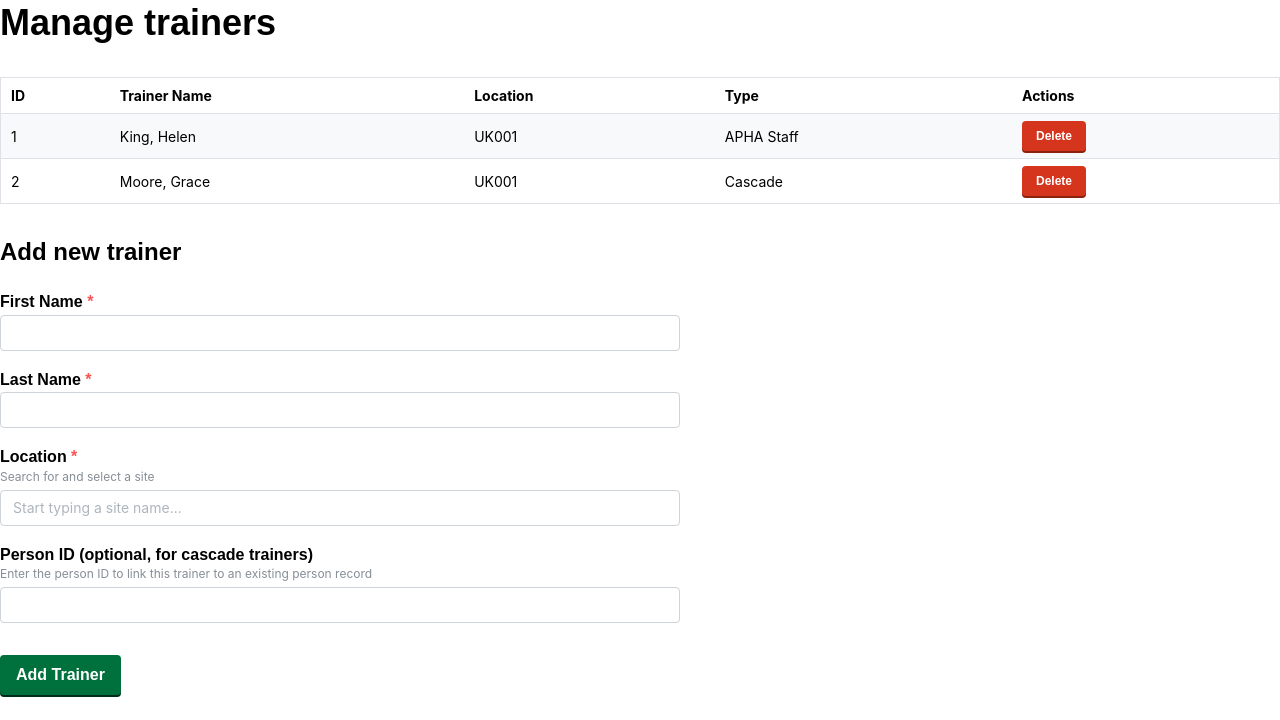
it: ManageTrainersPage › opens delete confirmation modal when delete is clicked
This screenshot has width=1280, height=720.
Click the button with test id "delete-trainer-1": (1054,136) [1022, 122, 1086, 152]
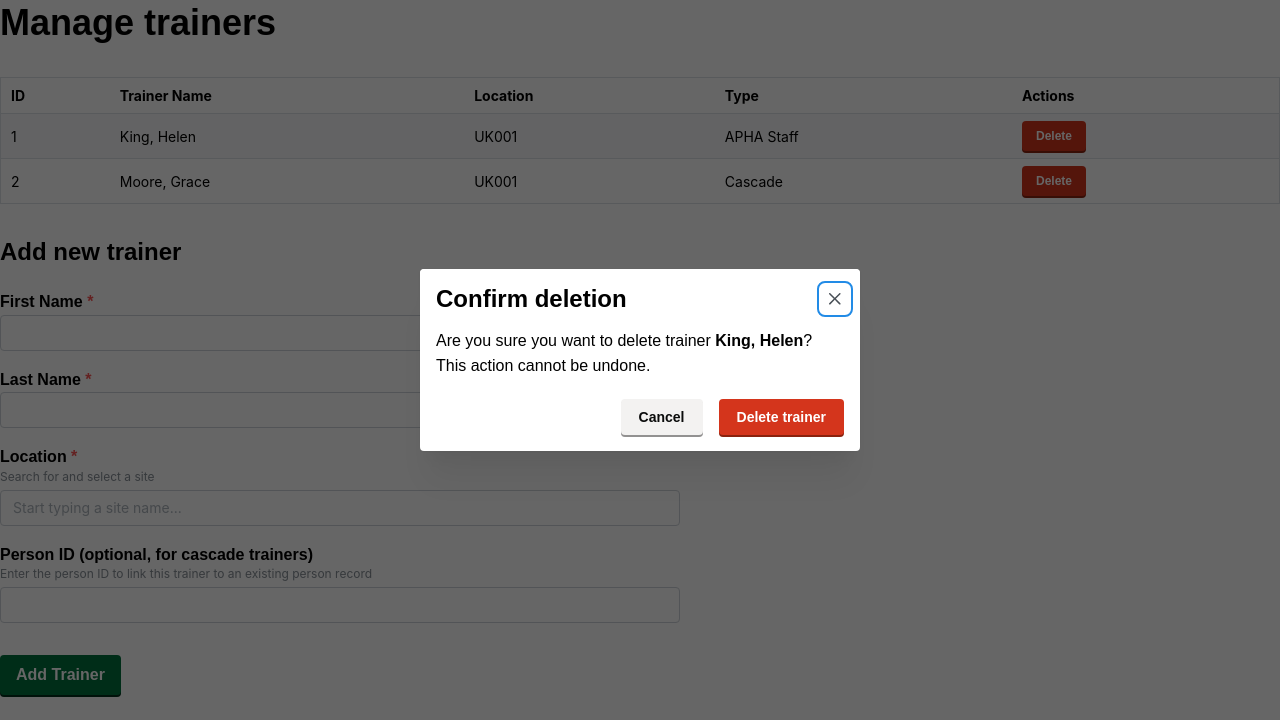
Check: the text "Are you sure you want to delete trainer" is shown, box [436, 332, 711, 349]
Check: the button with test id "confirm-delete-trainer-button" is shown, box [718, 399, 844, 435]
